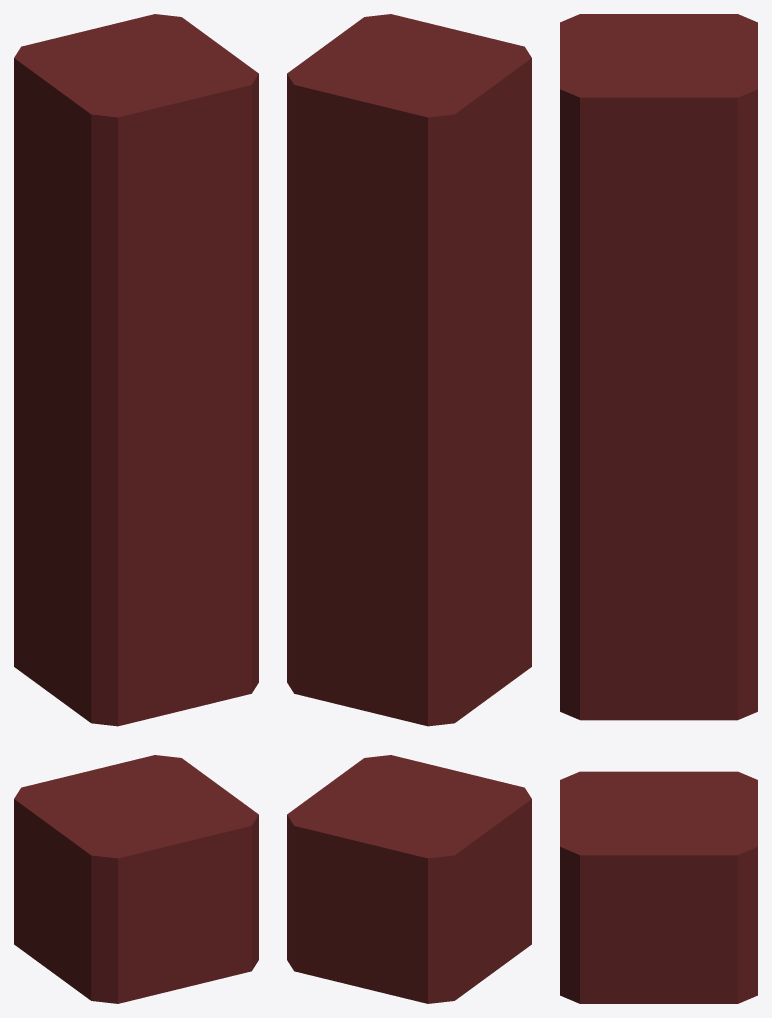
Rendered from Warning-1.fbx.
The picture shows the model from 3 angles, left to right: view 1: azimuth 30°, elevation 25°; view 2: azimuth 150°, elevation 25°; view 3: azimuth 270°, elevation 25°; orthographic projection. The views are drawn at different scales.
Visible parts, largest first — view 1: Cube.005; view 2: Cube.005; view 3: Cube.005.
Boxes of the visible parts, <box> form: Cube.005: <box>14,14,258,1003</box>; Cube.005: <box>287,14,531,1003</box>; Cube.005: <box>560,14,757,1003</box>.
Bounding box in the file's own units: 8.65 × 43.7 × 8.65.
